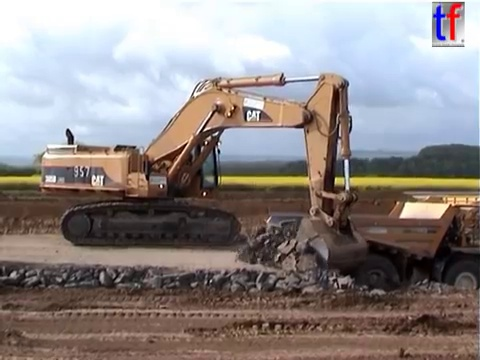excavator: (37, 70, 370, 277)
truck: (262, 193, 480, 311)
